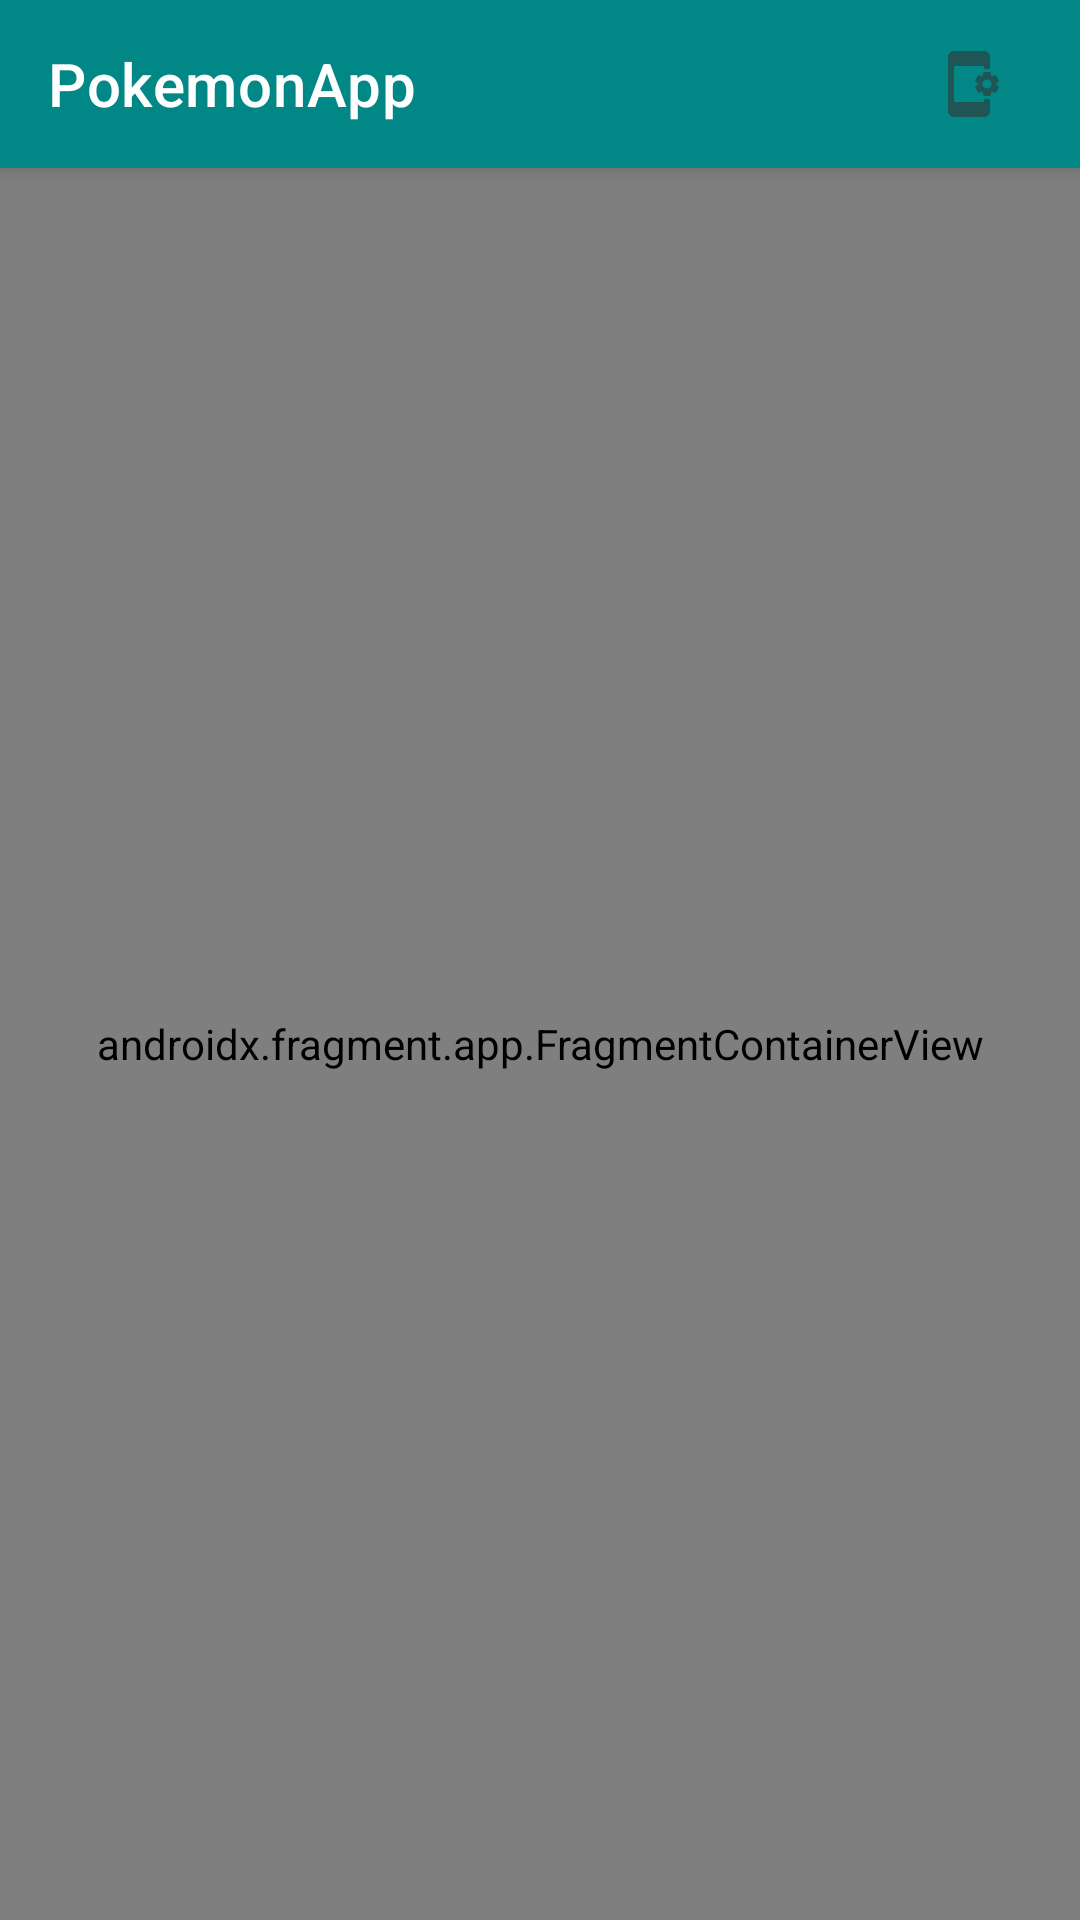

Icon bounding boxes for this 1080 x 1920 phone screenshot, format {"left": x1, "top": y1, "right": x2, "bottom": y2}:
Settings: {"left": 948, "top": 51, "right": 999, "bottom": 117}
